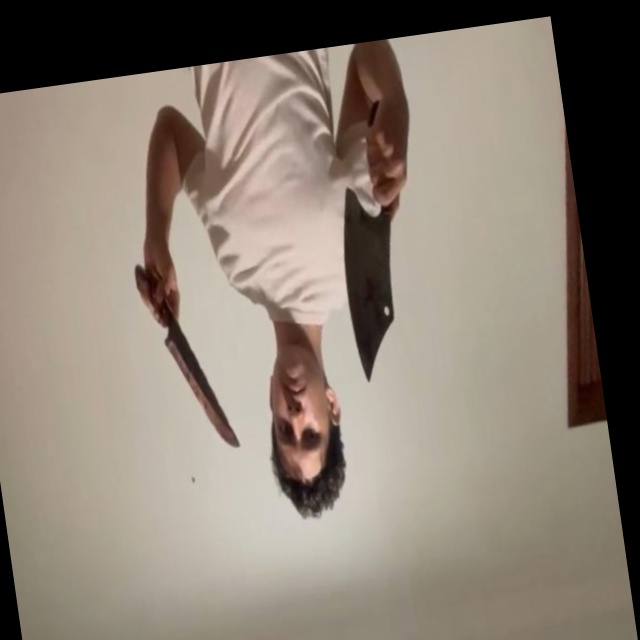Sharp-Object: (332, 181, 407, 387), (163, 327, 239, 456)
